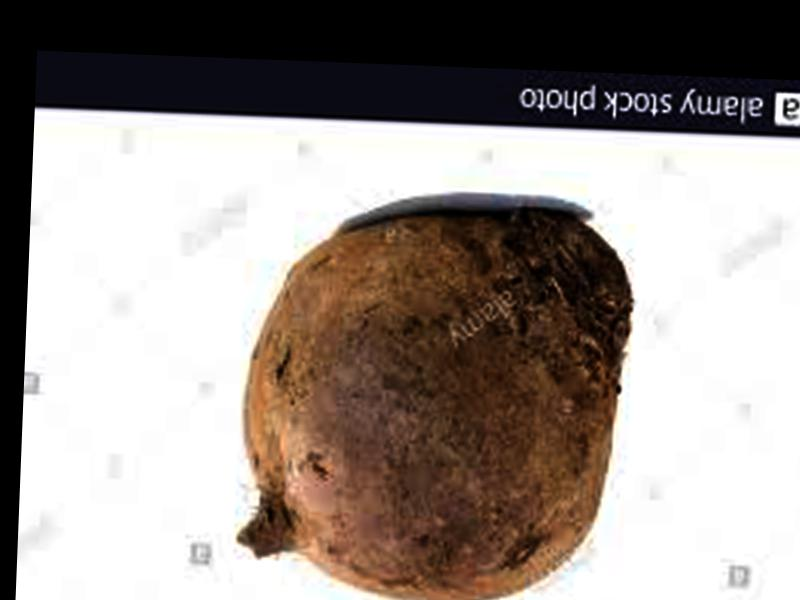Beet: (234, 199, 632, 600)
